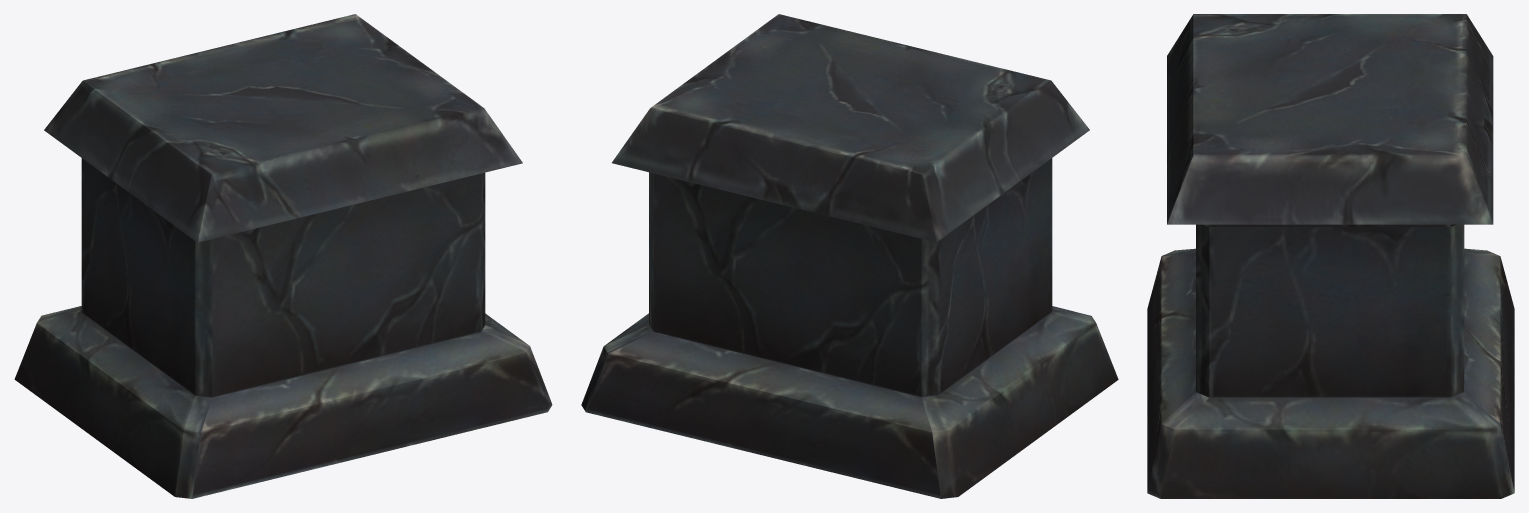
File: B_shidun003.fbx
The picture shows the model from 3 angles, left to right: view 1: azimuth 30°, elevation 25°; view 2: azimuth 150°, elevation 25°; view 3: azimuth 270°, elevation 25°; orthographic projection. The views are drawn at different scales.
Visible parts, largest first — view 1: B_shidun003; view 2: B_shidun003; view 3: B_shidun003.
Boxes of the visible parts, x1=… form: B_shidun003: x1=14, y1=14, x2=552, y2=498; B_shidun003: x1=581, y1=14, x2=1118, y2=498; B_shidun003: x1=1147, y1=14, x2=1514, y2=498.
Size of the model in its own units: 159 by 120 by 126.
